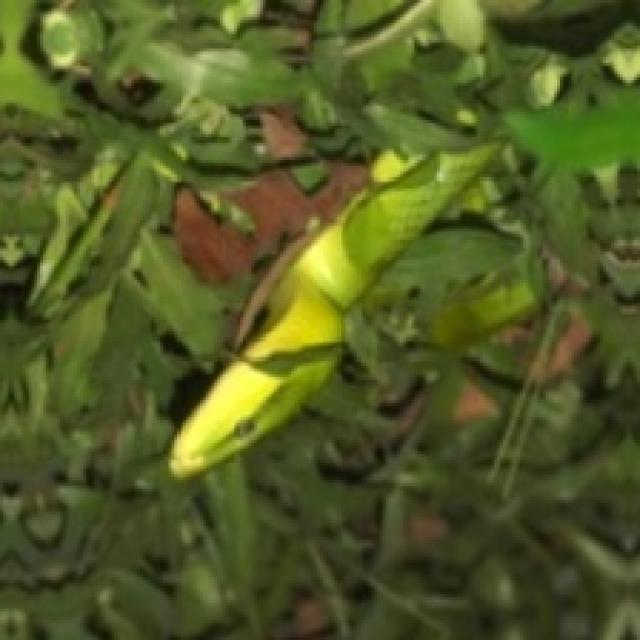red-tailed green ratsnake: (169, 143, 497, 477)
